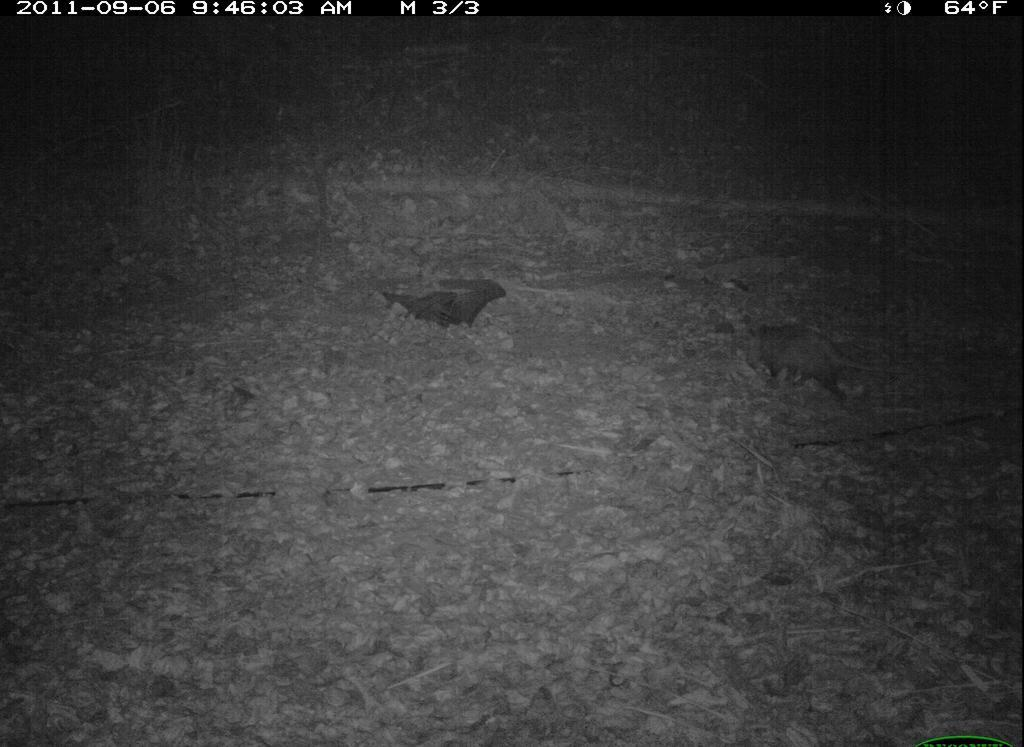opossum: (728, 304, 929, 414)
